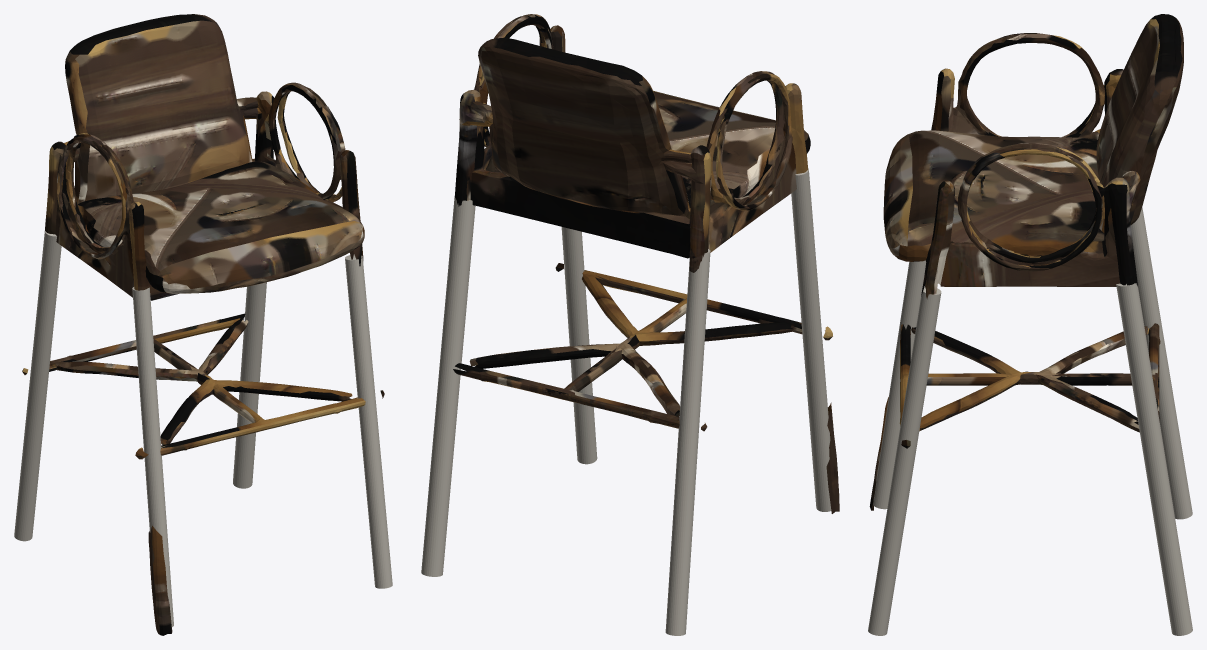
Rendered from lincoln-327-chuannet.obj.
3 views of the same model, side by side, from view 1: azimuth 30°, elevation 25°; view 2: azimuth 150°, elevation 25°; view 3: azimuth 270°, elevation 25° (orthographic). The views are drawn at different scales.
Parts seen in each view (by area): view 1: p6-huu-co_mesh, p2-chan_cylinder, p4-chan_cylinder, p3-chan_cylinder, p1-chan_cylinder; view 2: p6-huu-co_mesh, p1-chan_cylinder, p4-chan_cylinder, p3-chan_cylinder, p2-chan_cylinder; view 3: p6-huu-co_mesh, p1-chan_cylinder, p2-chan_cylinder, p4-chan_cylinder, p3-chan_cylinder.
Boxes of the visible parts, box(x1,y1,x2,y2) form: p6-huu-co_mesh: box(22, 14, 384, 635); p2-chan_cylinder: box(345, 254, 392, 588); p4-chan_cylinder: box(14, 231, 61, 541); p3-chan_cylinder: box(132, 287, 173, 626); p1-chan_cylinder: box(233, 282, 266, 488); p6-huu-co_mesh: box(453, 14, 839, 513); p1-chan_cylinder: box(421, 197, 475, 576); p4-chan_cylinder: box(665, 249, 710, 635); p3-chan_cylinder: box(791, 168, 831, 511); p2-chan_cylinder: box(561, 227, 597, 464); p6-huu-co_mesh: box(869, 14, 1183, 510); p1-chan_cylinder: box(1116, 283, 1192, 635); p2-chan_cylinder: box(868, 287, 941, 635); p4-chan_cylinder: box(1131, 207, 1192, 519); p3-chan_cylinder: box(873, 260, 926, 509).
Bounding box in the file's own units: 593 × 1113 × 616.
Materials: 2 (1 with a texture image).
